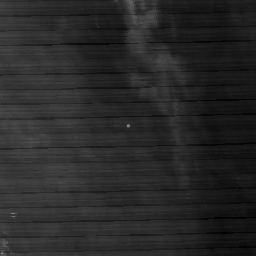Target: (125, 123, 131, 128)
